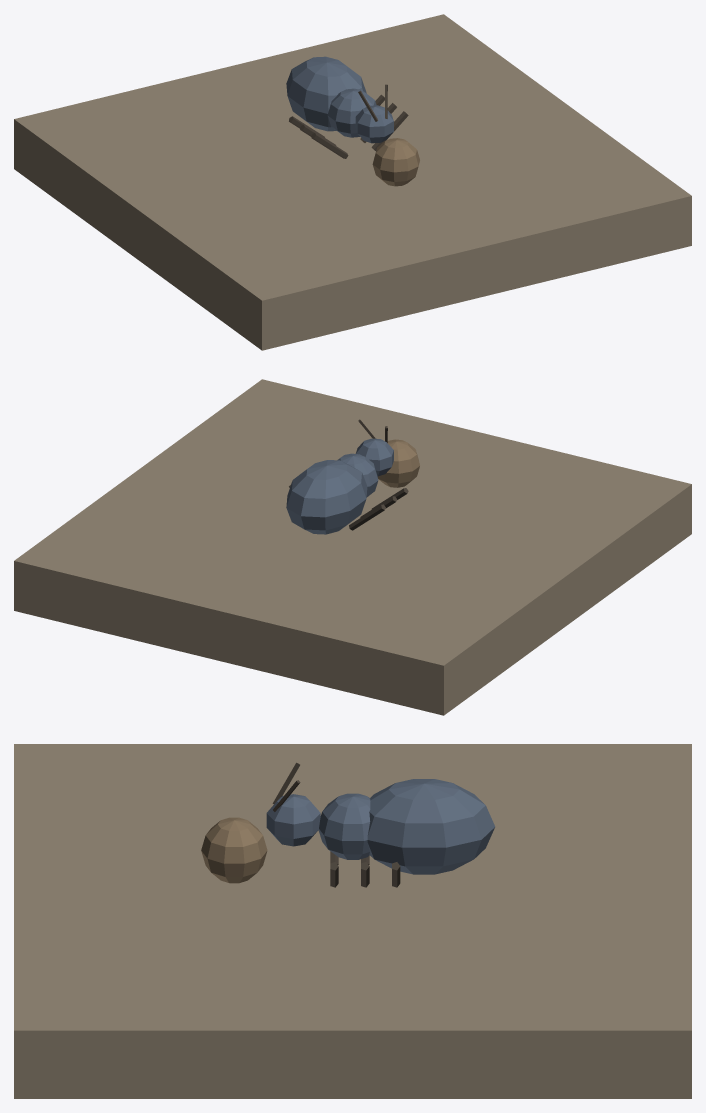
Rendered from bug_beetle.glb.
3 renders of one model, top to bottom at view 1: azimuth 30°, elevation 25°; view 2: azimuth 150°, elevation 25°; view 3: azimuth 270°, elevation 25°, orthographic. The views are drawn at different scales.
Visible parts, largest first — view 1: Base, TurretMesh, HeadMesh; view 2: Base, TurretMesh, HeadMesh; view 3: Base, TurretMesh, HeadMesh.
Boxes of the visible parts, x1,y1,x2,y2 form: Base: (14, 14, 691, 350); TurretMesh: (286, 56, 419, 186); HeadMesh: (355, 84, 393, 143); Base: (14, 379, 691, 715); TurretMesh: (286, 439, 419, 534); HeadMesh: (355, 419, 393, 476); Base: (14, 744, 691, 1098); TurretMesh: (201, 779, 495, 887); HeadMesh: (266, 762, 320, 846).
Bounding box in the file's own units: 1.8 × 0.5388 × 1.8.
